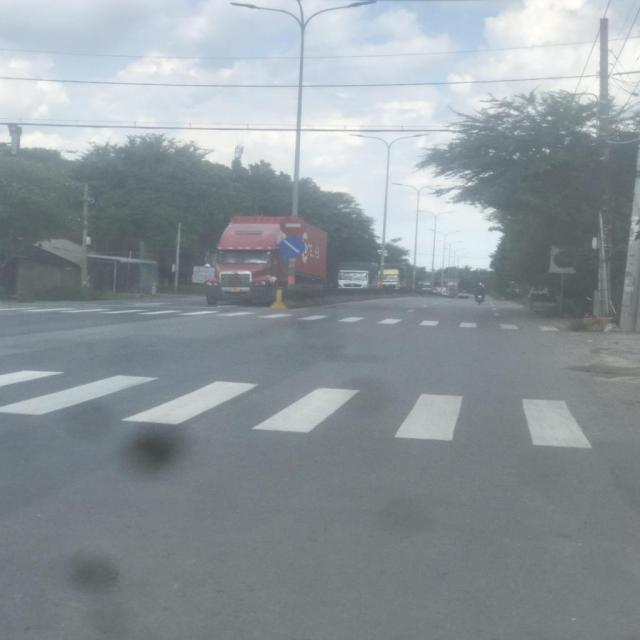cam_xe_di_nguoc_chieu: (278, 215, 308, 237)
huong_phai_di_vuot_chuong_ngai_vat_phai: (278, 236, 306, 258)
